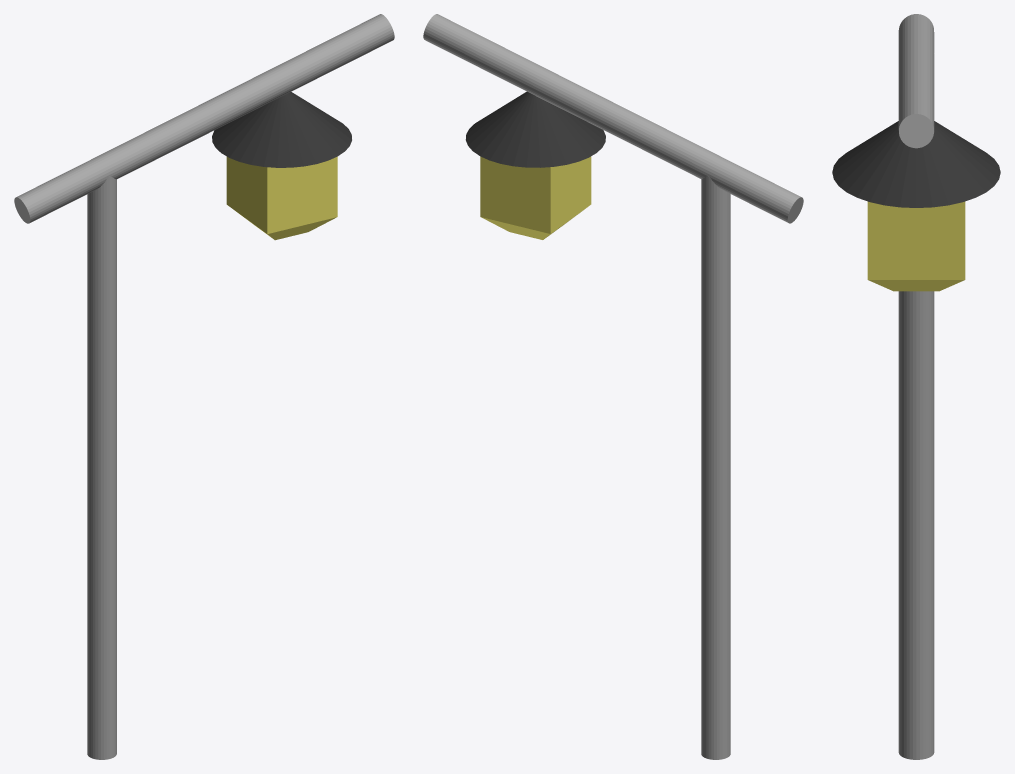
File: streetlight.fbx
The picture shows the model from 3 angles, left to right: view 1: azimuth 30°, elevation 25°; view 2: azimuth 150°, elevation 25°; view 3: azimuth 270°, elevation 25°; orthographic projection. The views are drawn at different scales.
Parts seen in each view (by area): view 1: streetlight_stick, streetlight_stick2, streetlight_top, streetlight_light; view 2: streetlight_stick, streetlight_stick2, streetlight_top, streetlight_light; view 3: streetlight_stick, streetlight_top, streetlight_light, streetlight_stick2.
Boxes of the visible parts, <box> form: streetlight_stick: <box>87,176,116,759</box>; streetlight_stick2: <box>14,14,394,223</box>; streetlight_top: <box>212,92,351,167</box>; streetlight_light: <box>226,156,337,240</box>; streetlight_stick: <box>701,176,730,759</box>; streetlight_stick2: <box>423,14,803,223</box>; streetlight_top: <box>465,91,605,167</box>; streetlight_light: <box>480,156,591,239</box>; streetlight_stick: <box>898,291,934,759</box>; streetlight_top: <box>832,121,1000,207</box>; streetlight_light: <box>867,201,965,291</box>; streetlight_stick2: <box>898,14,934,148</box>.
Bounding box in the file's own units: 857 × 1482 × 282.
